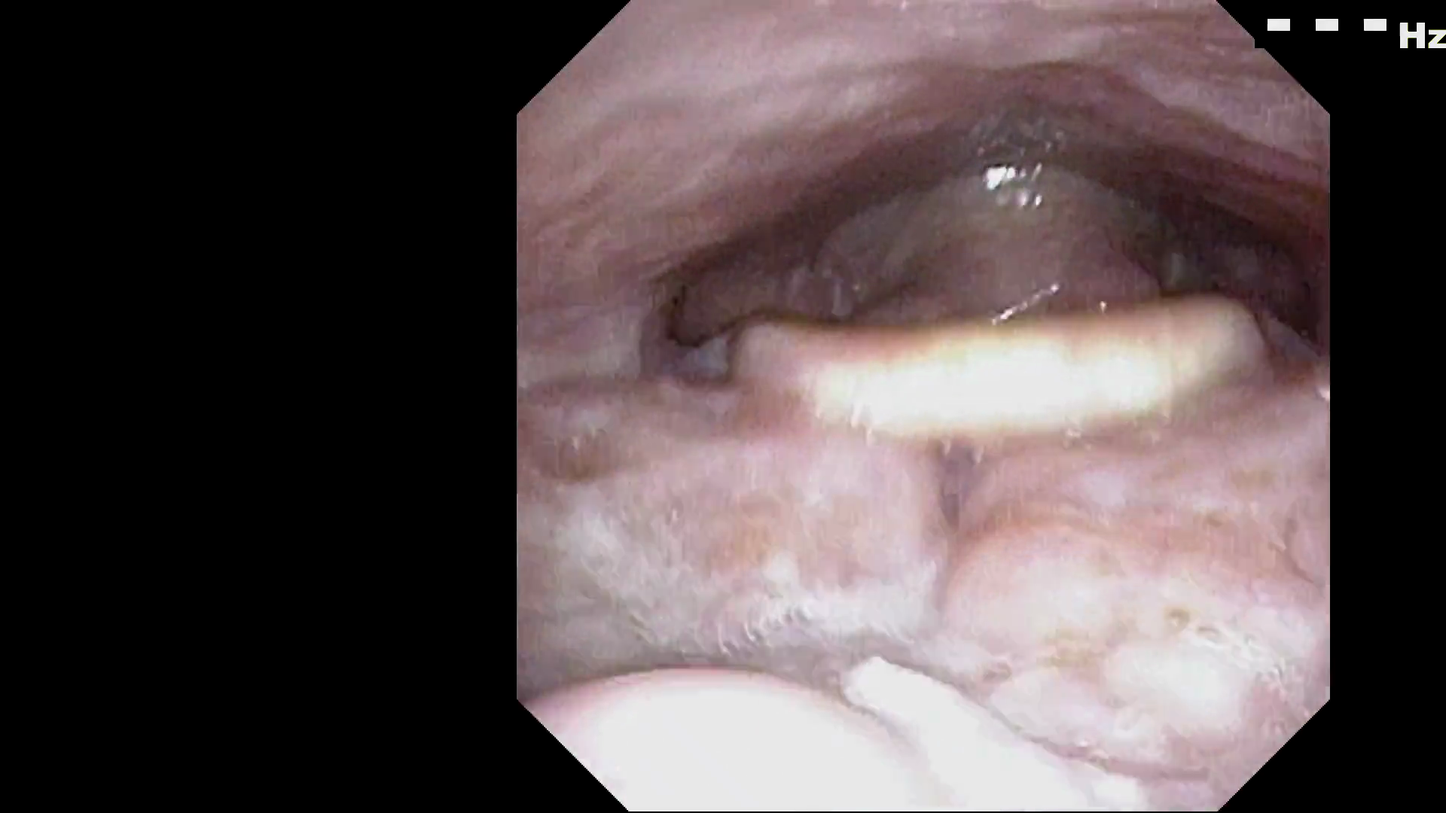epiglottis: (785, 246, 1191, 380)
